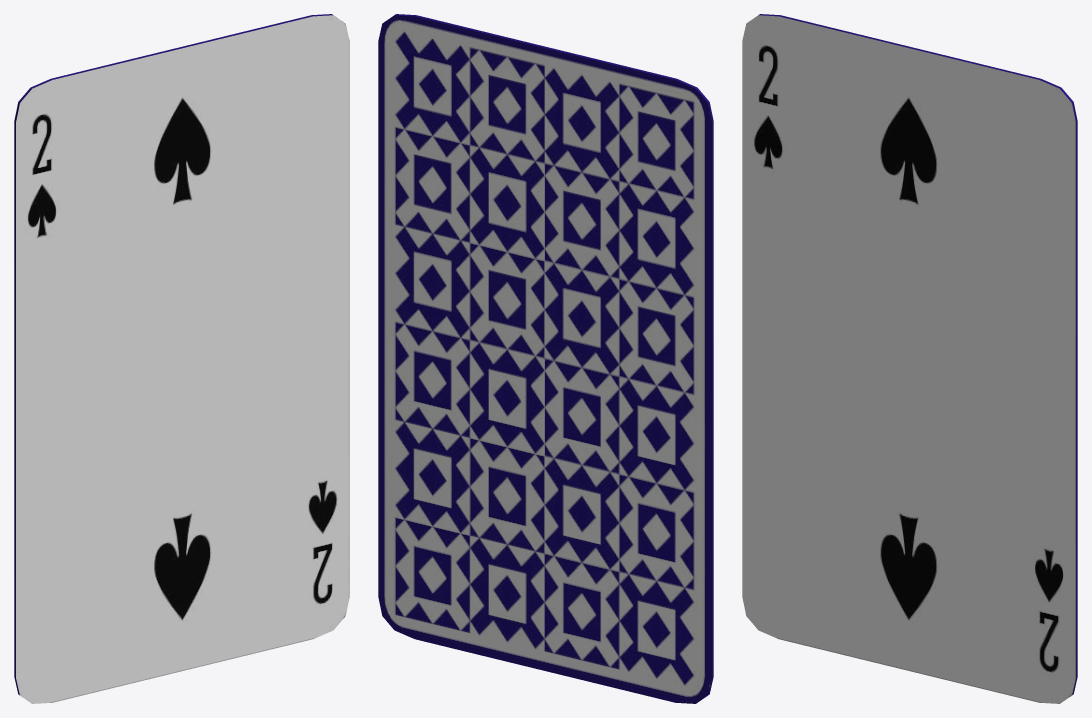
3 renders of one model, left to right at view 1: azimuth 30°, elevation 25°; view 2: azimuth 150°, elevation 25°; view 3: azimuth 330°, elevation 25°, orthographic.
Visible parts, largest first — view 1: Two of Spades; view 2: Two of Spades; view 3: Two of Spades.
Boxes of the visible parts, left/top/right/bottom form: Two of Spades: left=14, top=14, right=349, bottom=703; Two of Spades: left=378, top=14, right=713, bottom=703; Two of Spades: left=742, top=14, right=1077, bottom=703.
Bounding box in the file's own units: 1.43 × 2.54 × 0.0125.
Materials: 3 (3 with a texture image).
